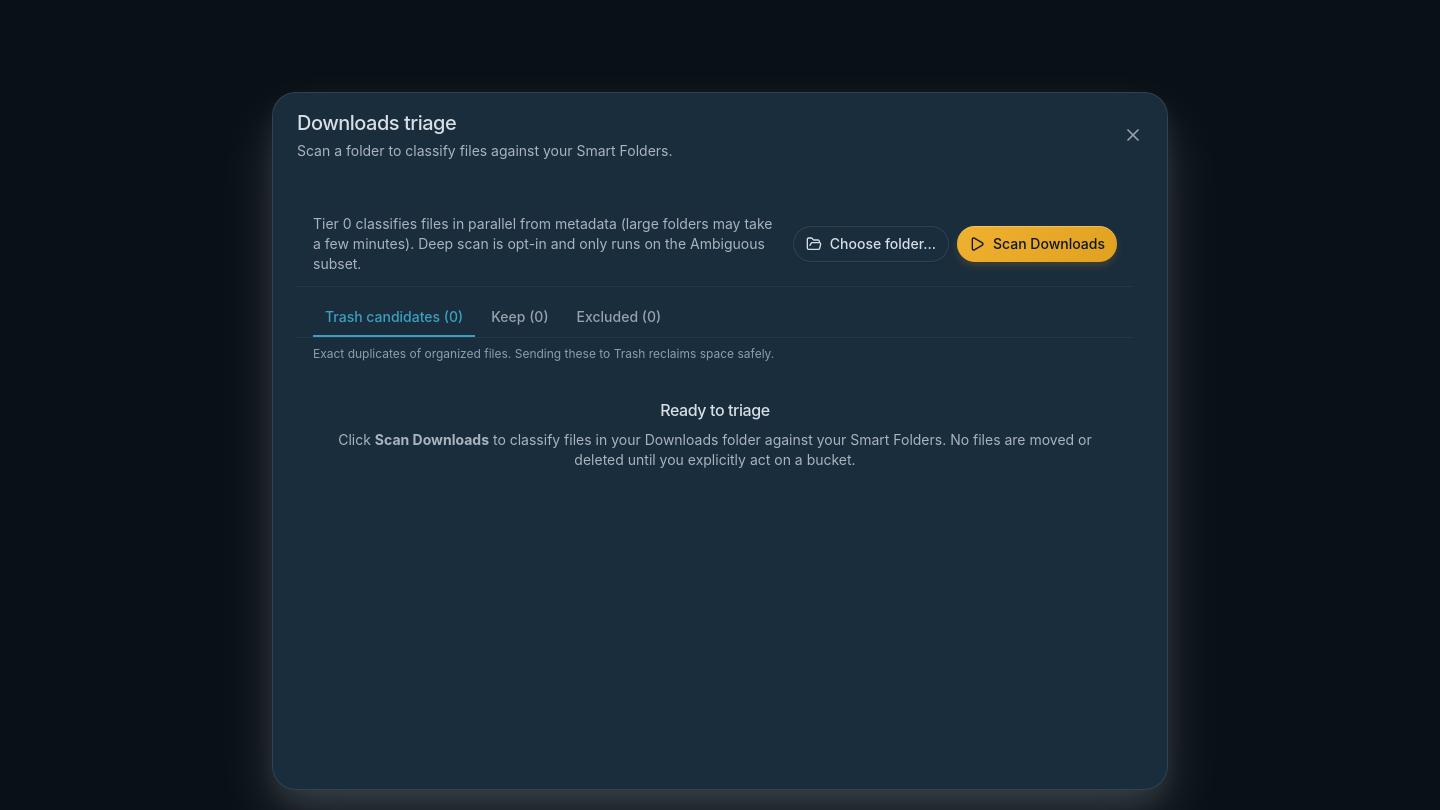
Test: DownloadsTriageView trash selection › user can clear trash selection without re-select-all loop
This screenshot has width=1440, height=810.
Step 1. Click the button "Scan Downloads" → (1037, 244), box 957,226 -> 1117,262
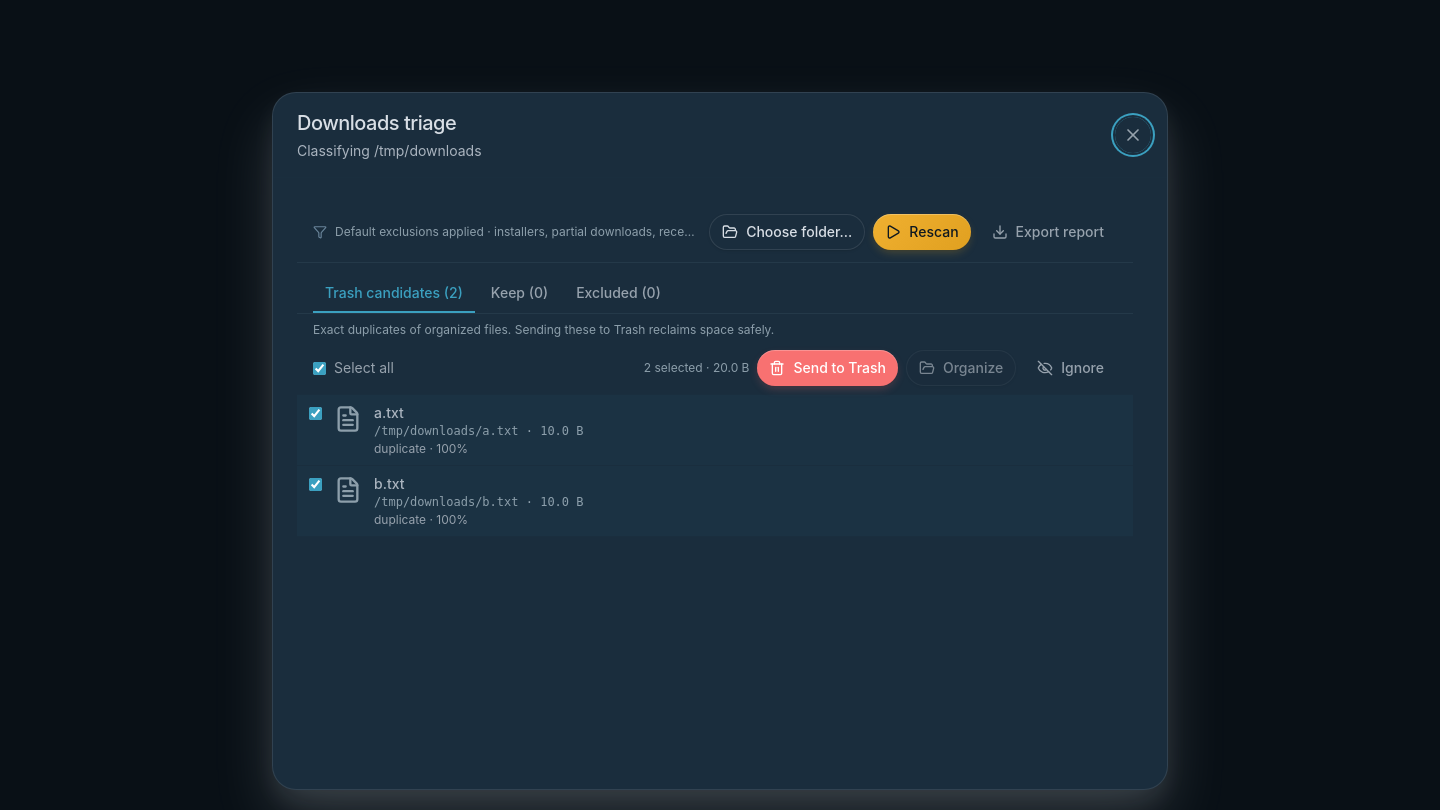
Expected: the element titled "Session t-session-1" is shown, 313,224 -> 697,240
Expected: the checkbox named "Select a.txt" is checked, 309,407 -> 322,420
Expected: the checkbox named "Select b.txt" is checked, 309,478 -> 322,491
Step 2. Click the checkbox named "Select all in current tab" → (320, 368), box 313,362 -> 326,374
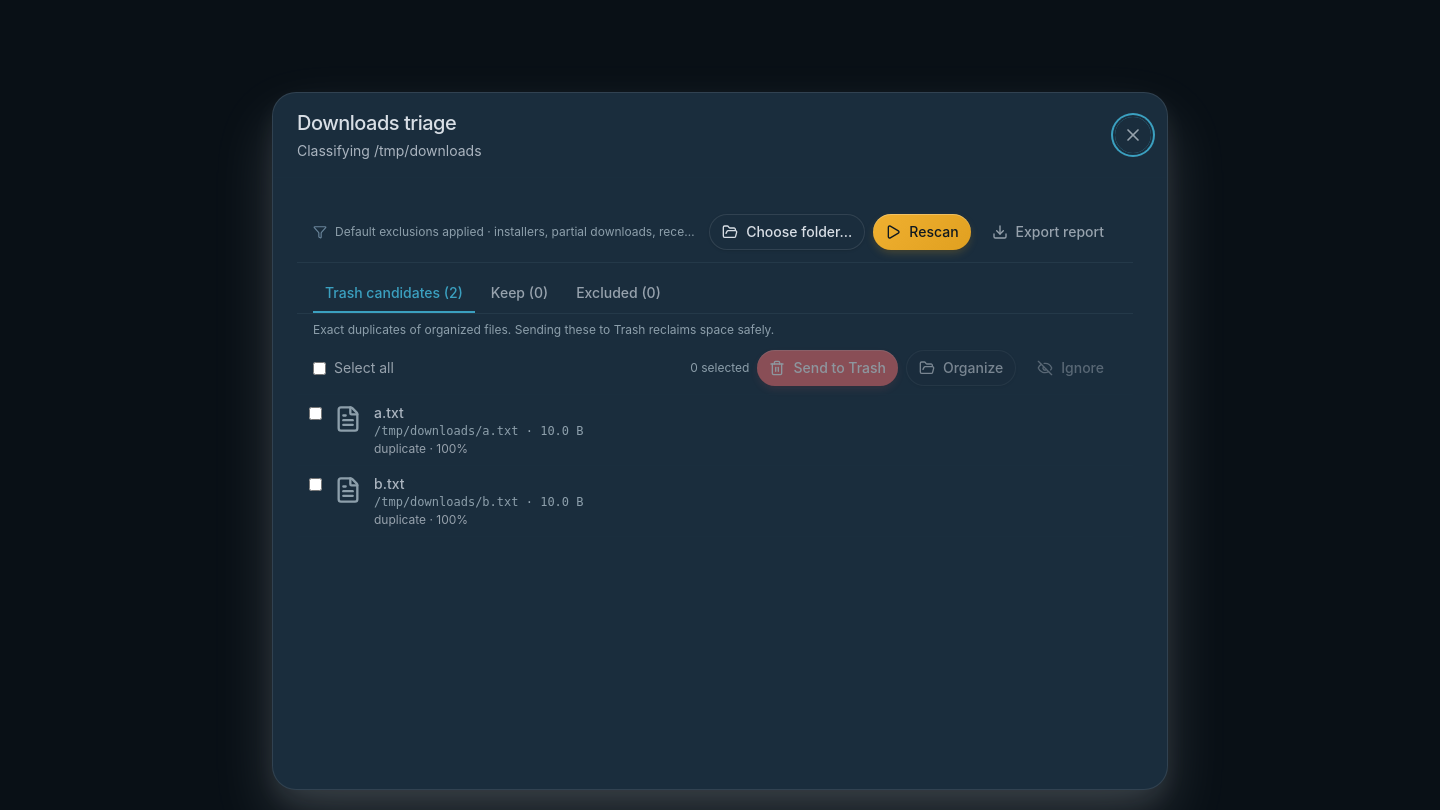
Expected: the checkbox named "Select all in current tab" is not checked, 313,362 -> 326,374
Expected: the checkbox named "Select a.txt" is not checked, 309,407 -> 322,420
Expected: the checkbox named "Select b.txt" is not checked, 309,478 -> 322,491
